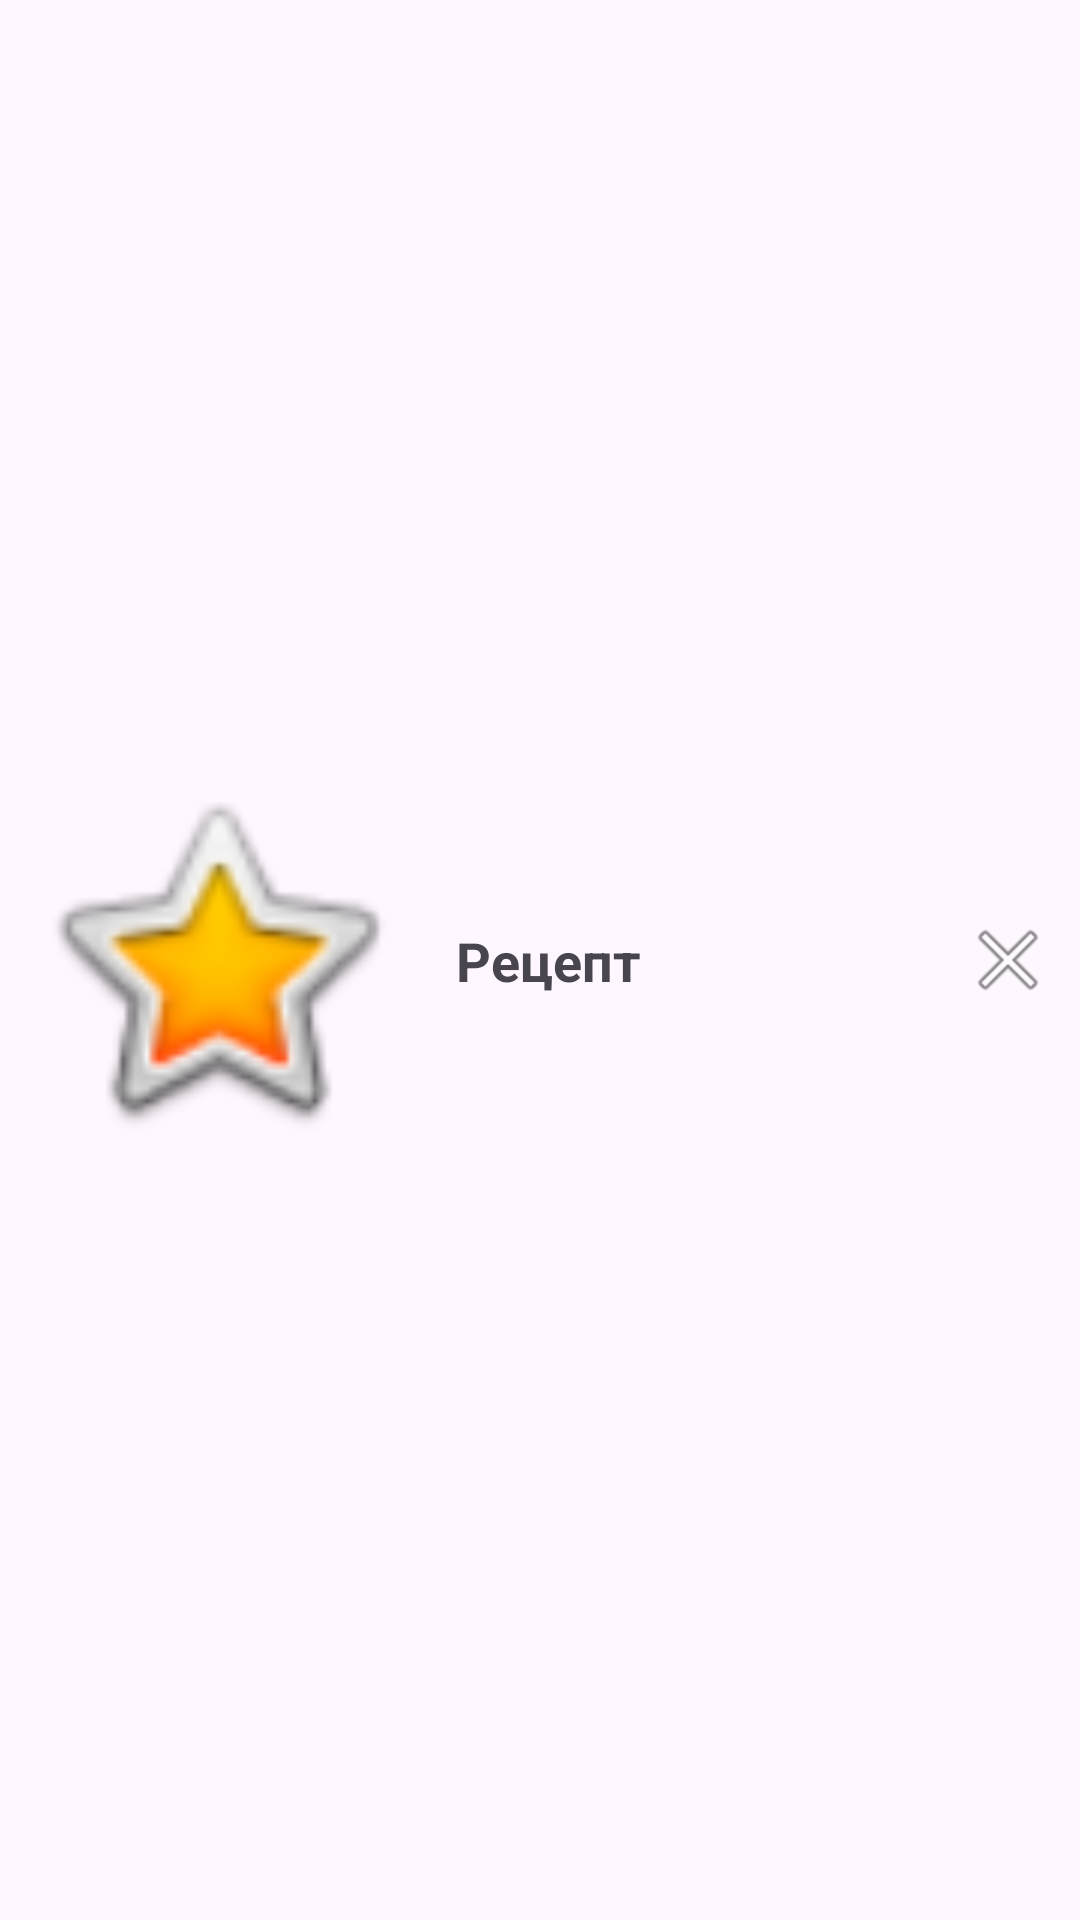

Named icons in this screenshot (1080 x 1920) and their bounding boxes, (x1, y1, x2, y2):
close clear cancel: (978, 930, 1038, 990)
star on: (59, 807, 380, 1119)
